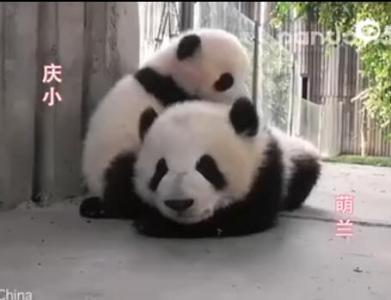panda: (76, 27, 248, 217), (130, 100, 323, 240)
